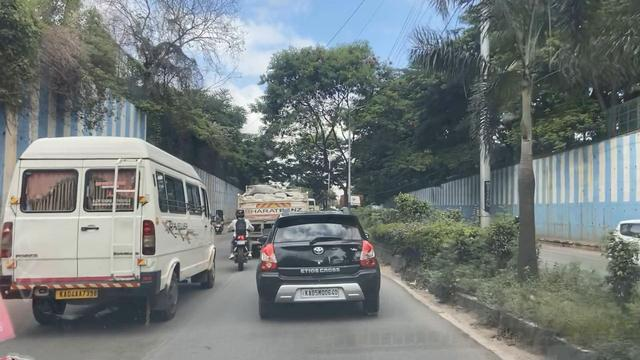HMV: (0, 135, 218, 333)
LMV: (243, 206, 384, 334), (228, 203, 257, 272)
